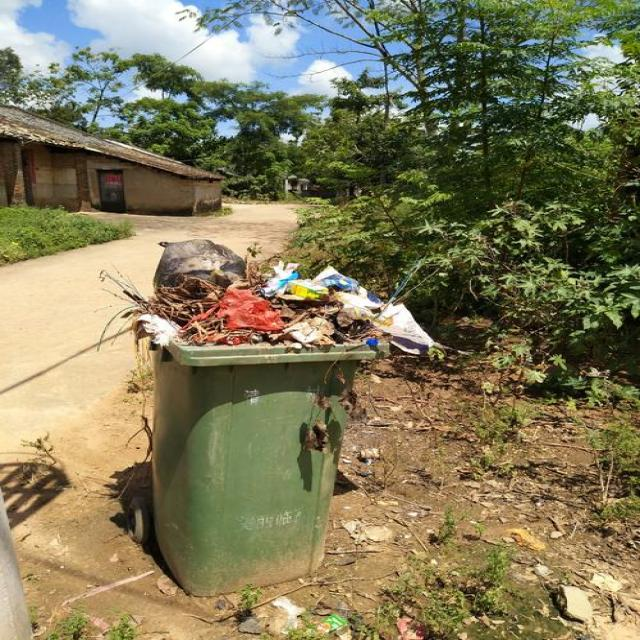overflow: (100, 239, 432, 595)
